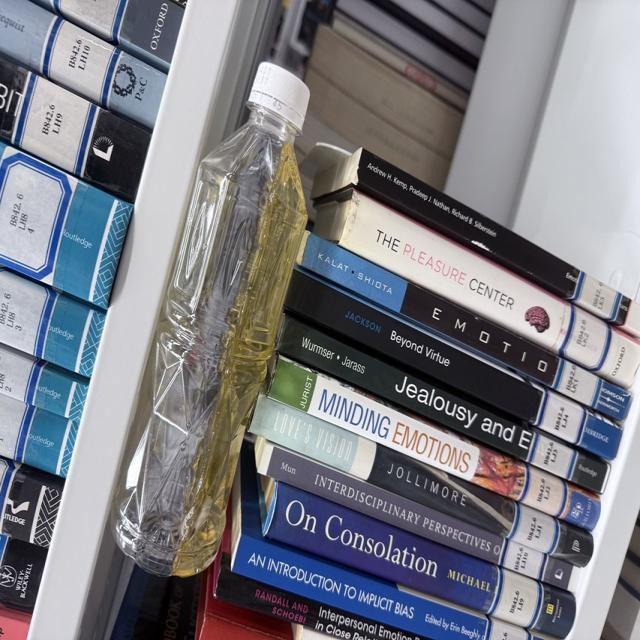low: (112, 64, 308, 575)
